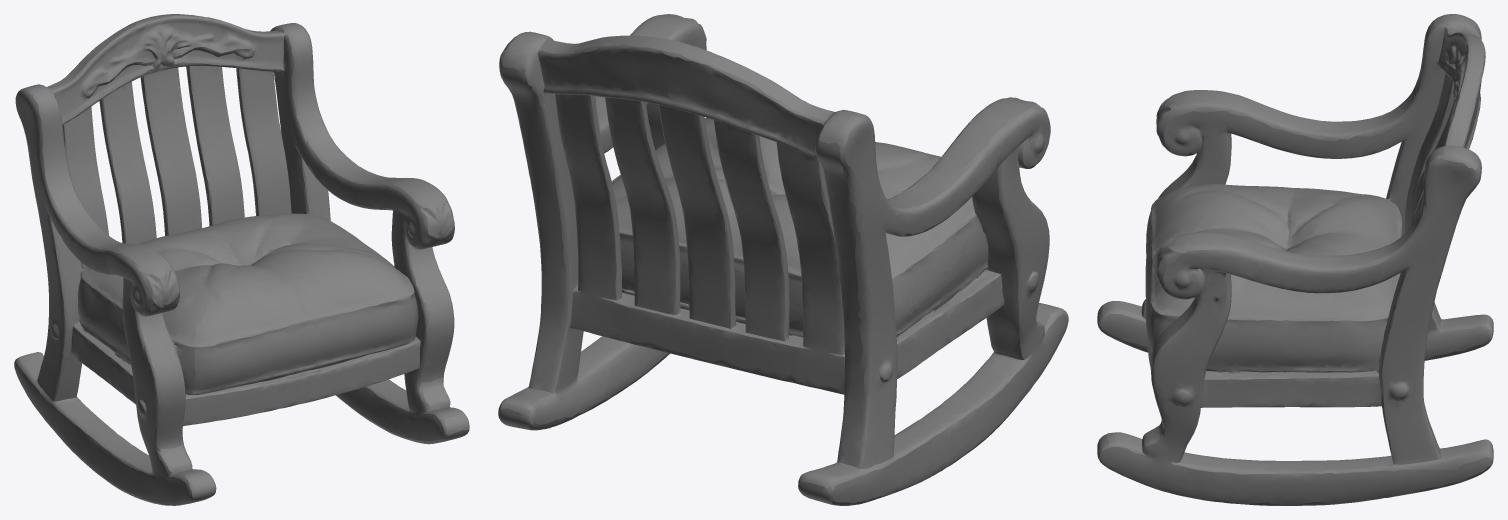
The model's file is completion_rocker_0.glb.
3 views of the same model, side by side, from view 1: azimuth 30°, elevation 25°; view 2: azimuth 150°, elevation 25°; view 3: azimuth 270°, elevation 25° (orthographic). The views are drawn at different scales.
Parts seen in each view (by area): view 1: geometry_0; view 2: geometry_0; view 3: geometry_0.
Part boxes in pixels (x1,y1,x2,y2): geometry_0: [14, 14, 469, 505]; geometry_0: [498, 14, 1068, 505]; geometry_0: [1097, 14, 1493, 505].
Bounding box in the file's own units: 0.9091 × 1 × 0.9324.
Materials: 1 (1 with a texture image).
